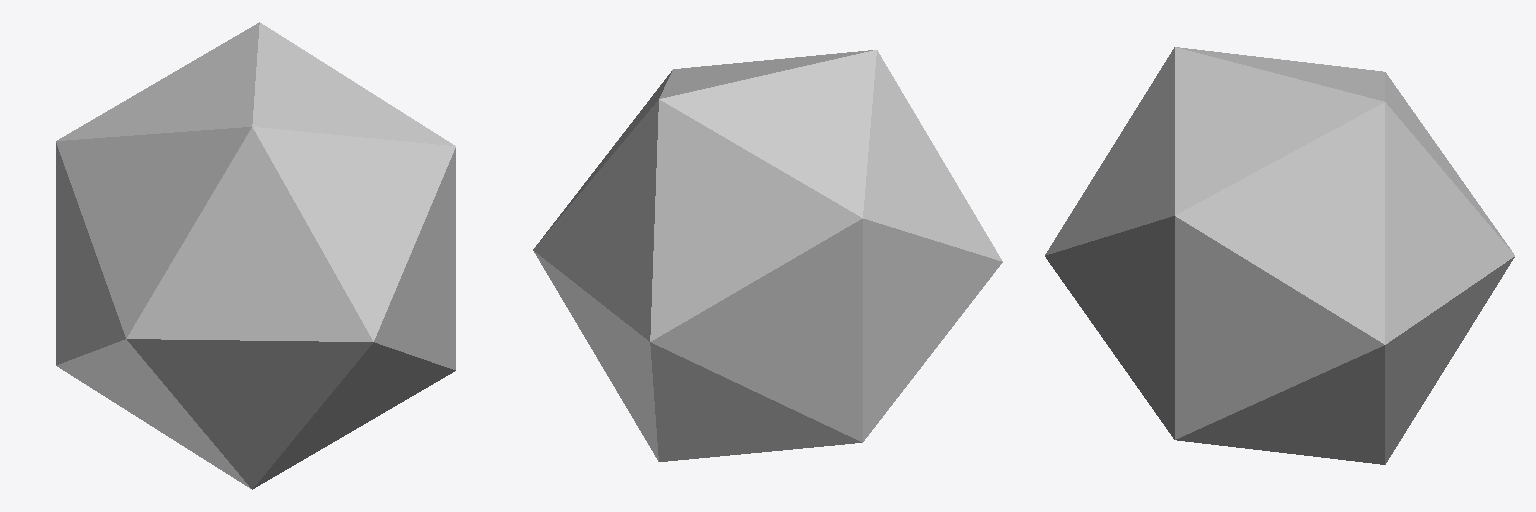
Rendered from star.obj.
3 renders of one model, left to right at view 1: azimuth 30°, elevation 25°; view 2: azimuth 150°, elevation 25°; view 3: azimuth 270°, elevation 25°, orthographic.
Visible parts, largest first — view 1: star_Mesh; view 2: star_Mesh; view 3: star_Mesh.
Part boxes in pixels (x1,y1,x2,y2): star_Mesh: (56, 22, 455, 489); star_Mesh: (533, 50, 1002, 461); star_Mesh: (1045, 47, 1514, 464).
Size of the model in its own units: 1.79 by 1.7 by 2.